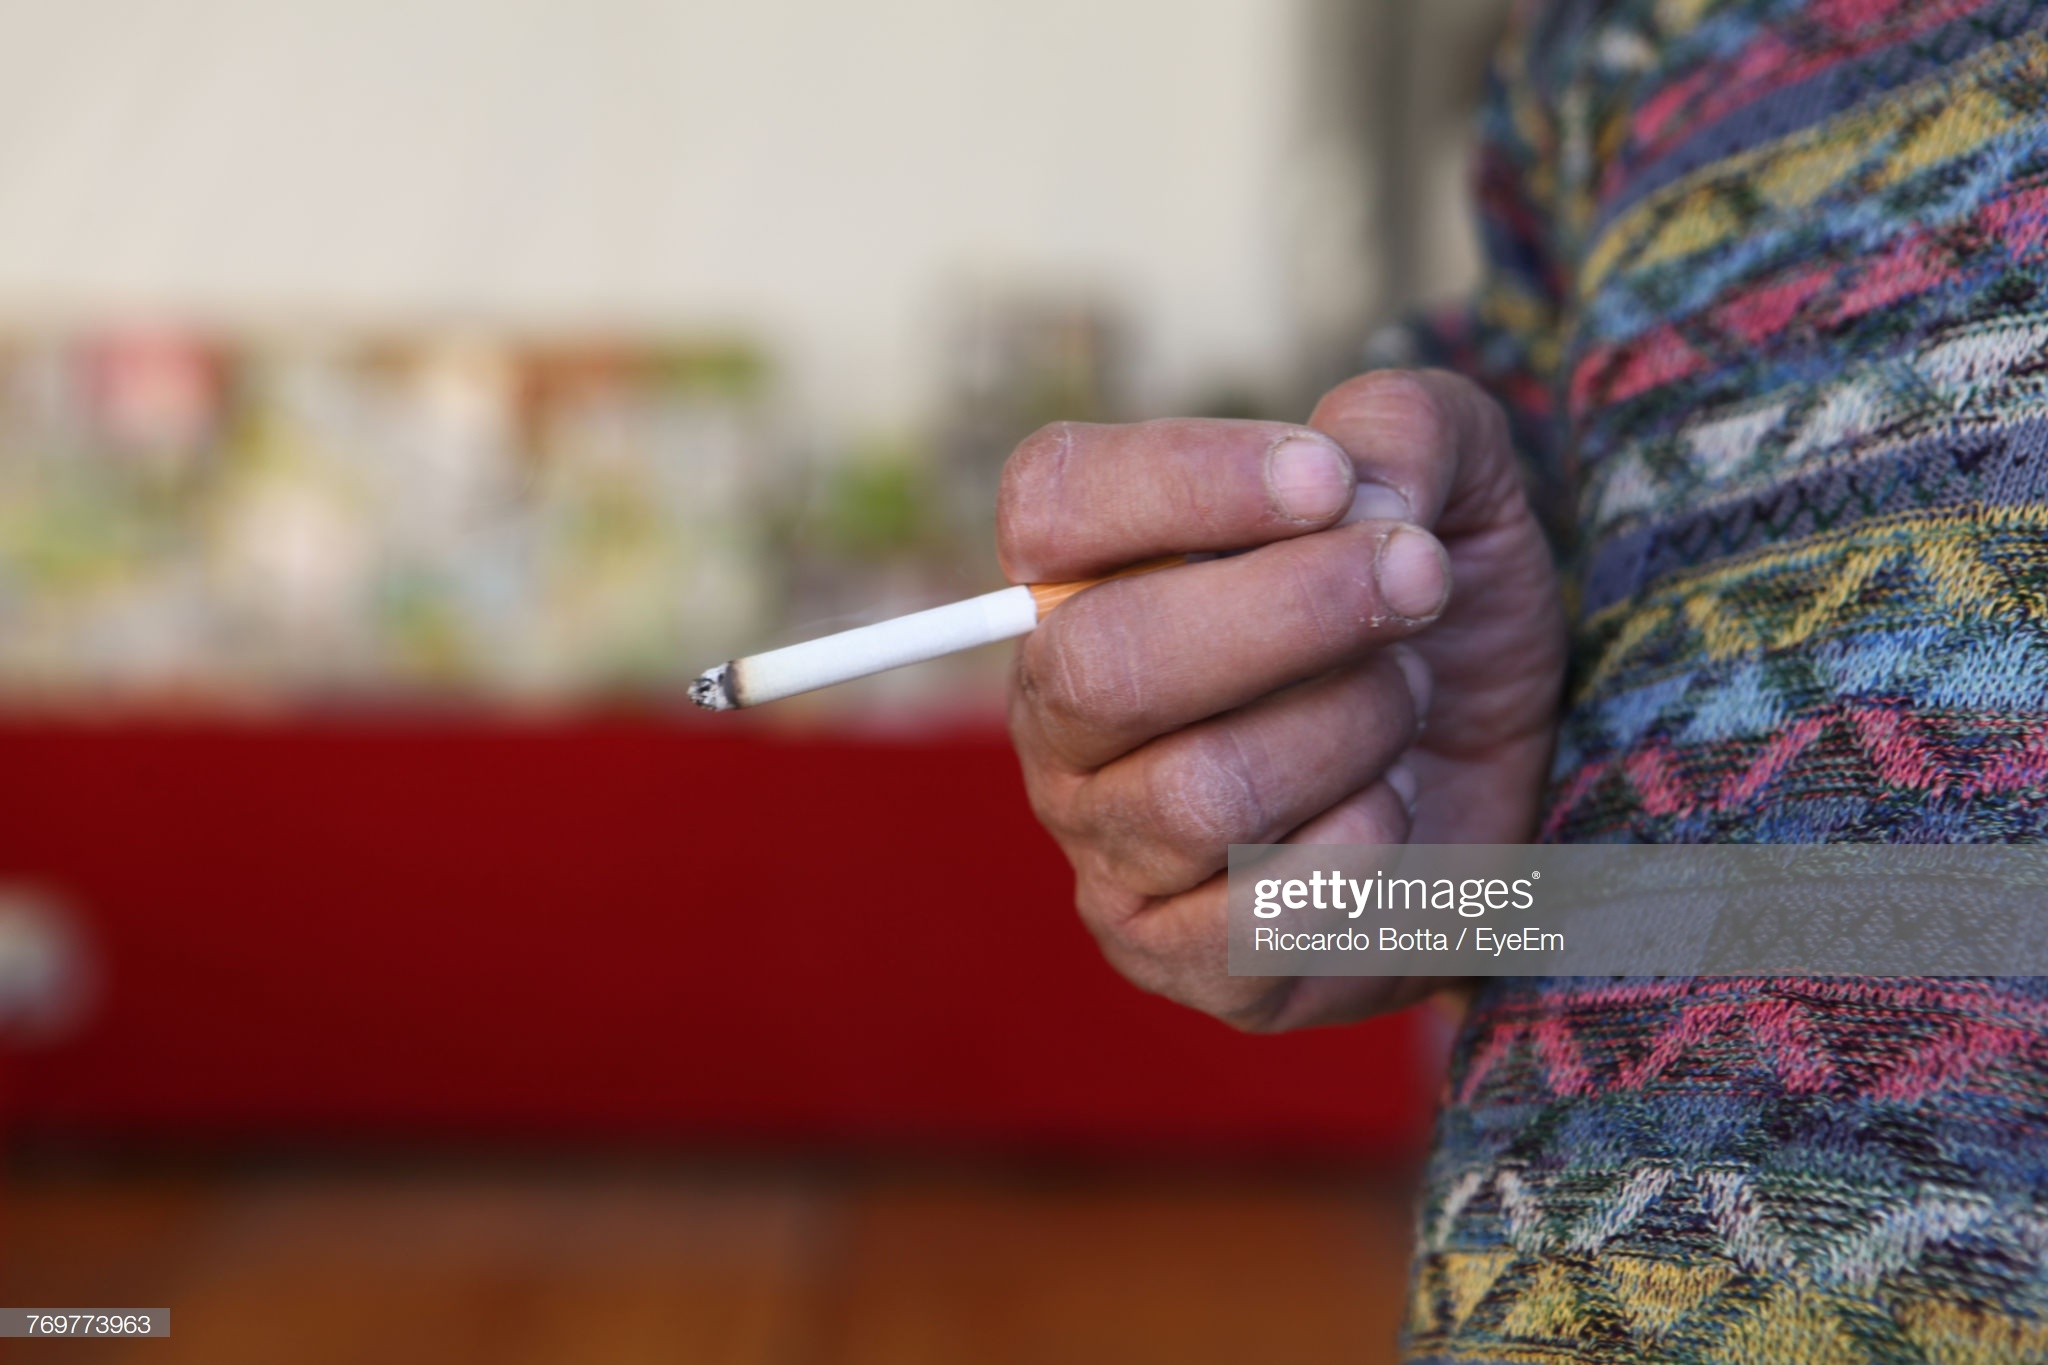sigaretta: (702, 544, 1195, 711)
